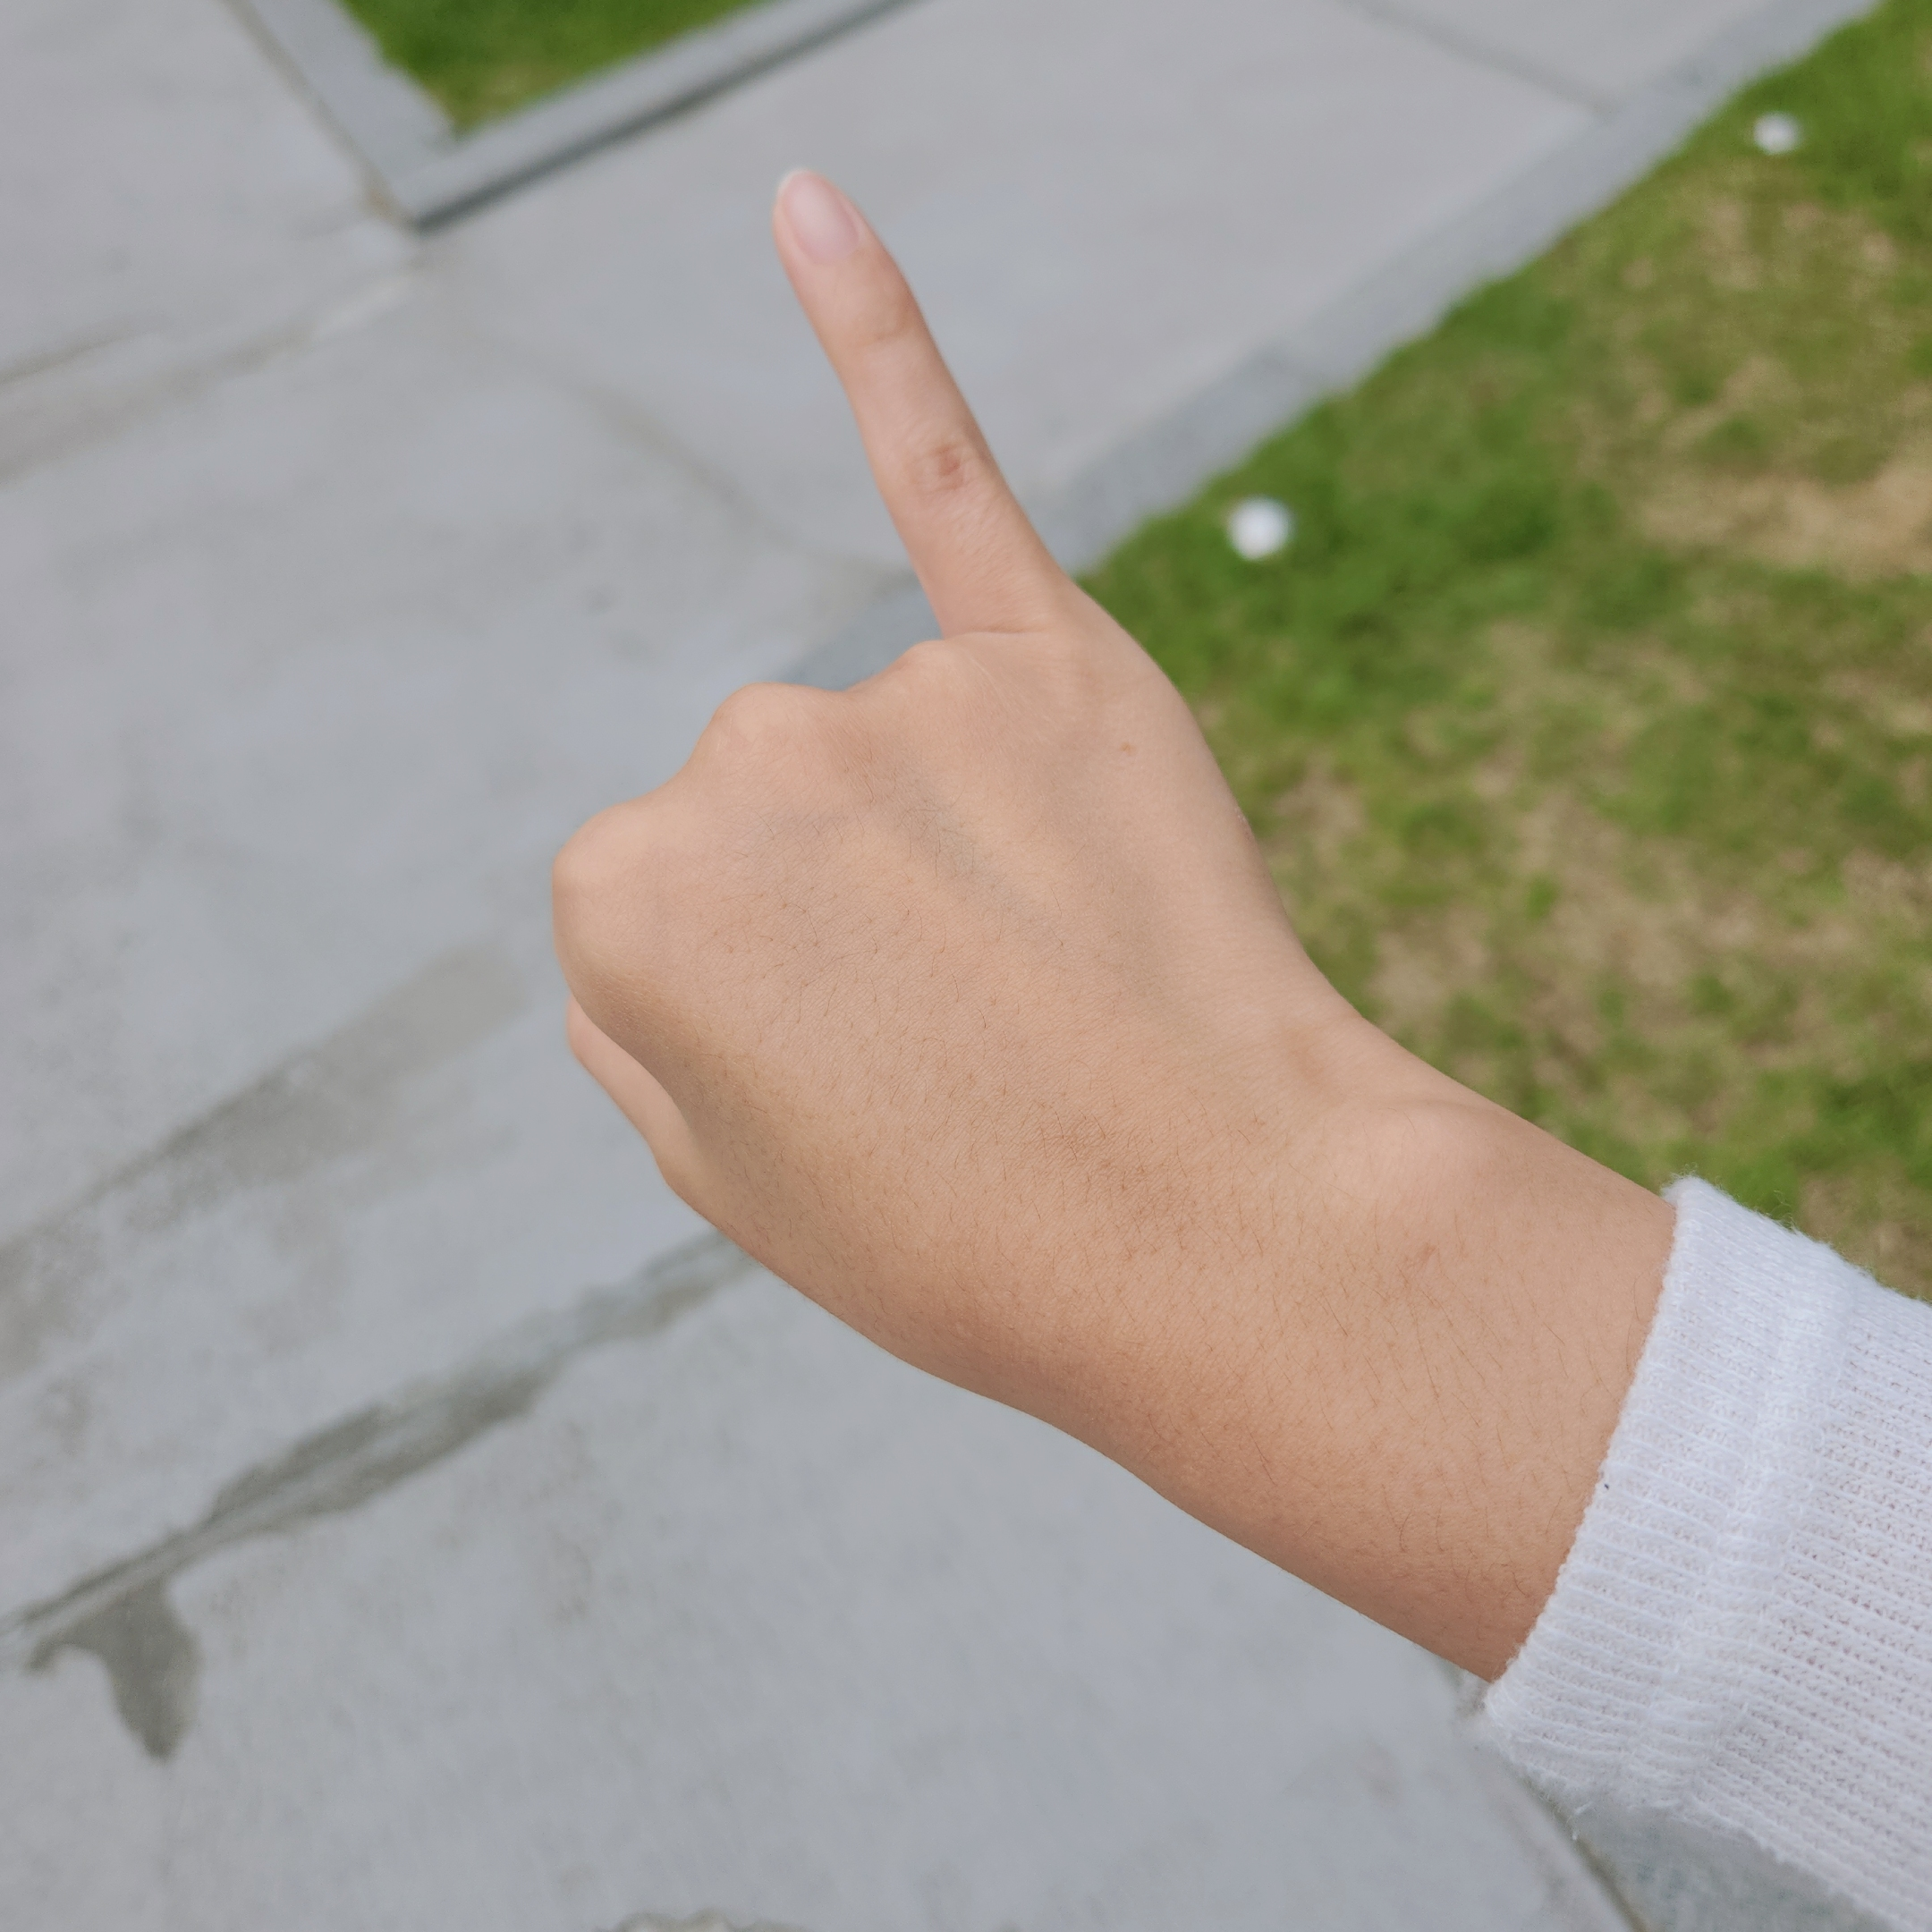fine: (550, 170, 1346, 1401)
